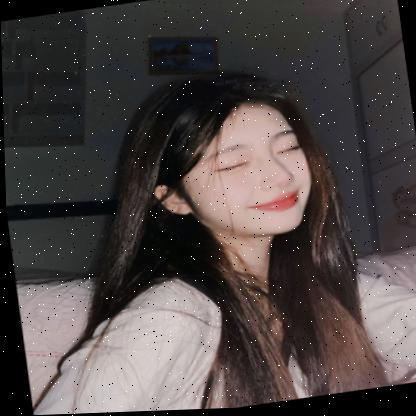person: (105, 60, 328, 268)
